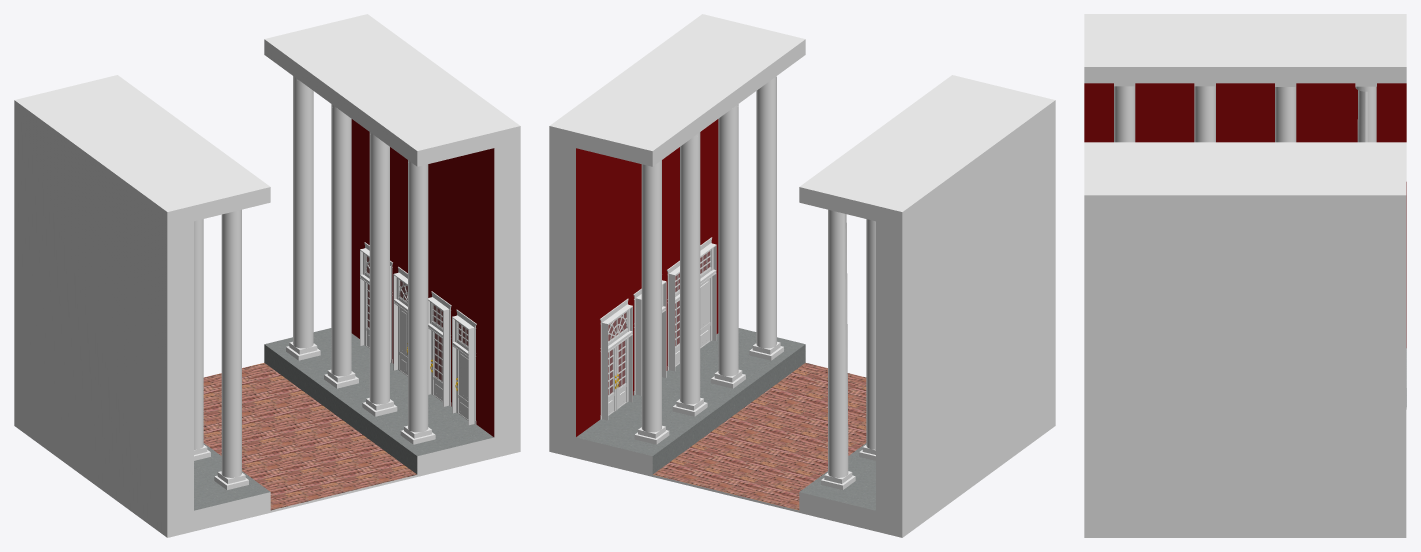
Rendered from CollegeRun_BaseUnit.dae.
3 renders of one model, left to right at view 1: azimuth 30°, elevation 25°; view 2: azimuth 150°, elevation 25°; view 3: azimuth 270°, elevation 25°, orthographic. The views are drawn at different scales.
Parts seen in each view (by area): view 1: SketchUp (×13), Componente_1 (×2), Componente_1_1, Componente_15; view 2: SketchUp (×12), Componente_1 (×2), Componente_15, Componente_1_1; view 3: SketchUp (×7).
Boxes of the visible parts, x1,y1,x2,y2 form: SketchUp (×13): (14, 14, 520, 537); Componente_1 (×2): (360, 242, 451, 406); Componente_1_1: (452, 309, 476, 425); Componente_15: (393, 266, 407, 370); SketchUp (×12): (549, 14, 1055, 537); Componente_1 (×2): (600, 260, 679, 420); Componente_15: (633, 280, 666, 395); Componente_1_1: (700, 237, 716, 340); SketchUp (×7): (1084, 14, 1406, 537).
Bounding box in the file's own units: 480 × 360 × 423.
8 materials, 2 textured.
